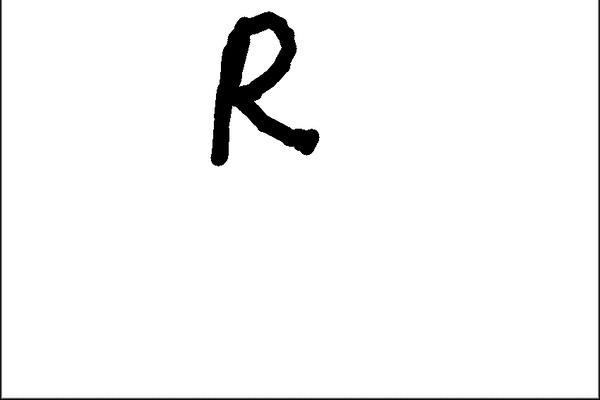R: (202, 6, 326, 175)
